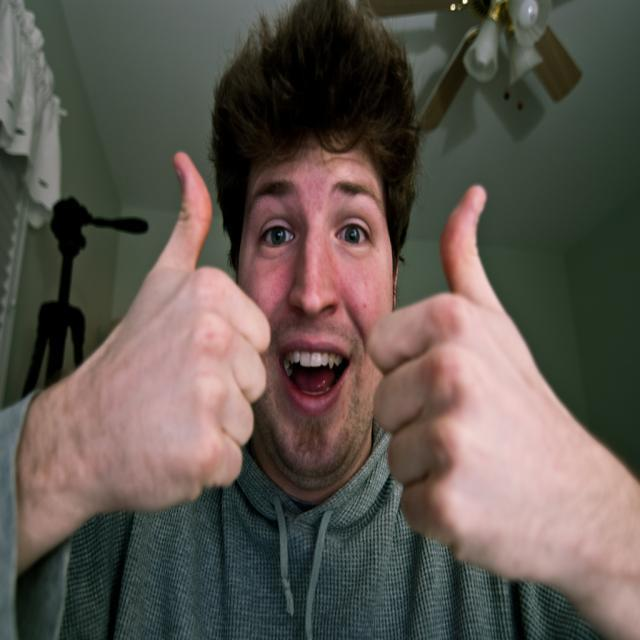bulb_off: (505, 0, 549, 31), (474, 37, 501, 84)
fan_off: (355, 0, 595, 127)
